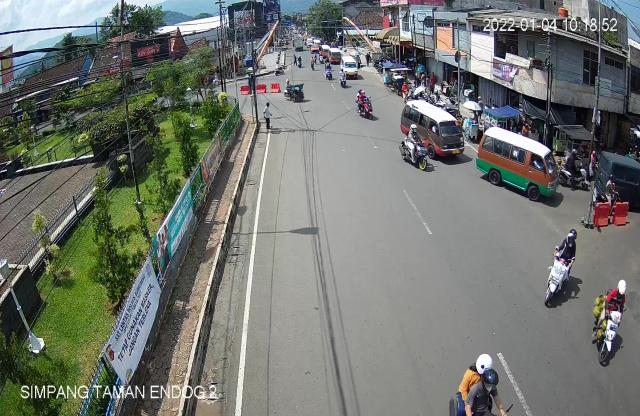Becak: (280, 76, 310, 109)
Mobil: (473, 125, 562, 205), (399, 97, 468, 165), (597, 146, 640, 213)
Motor: (542, 227, 578, 310), (592, 279, 625, 364), (398, 125, 433, 178), (560, 148, 587, 192), (353, 87, 379, 121)
